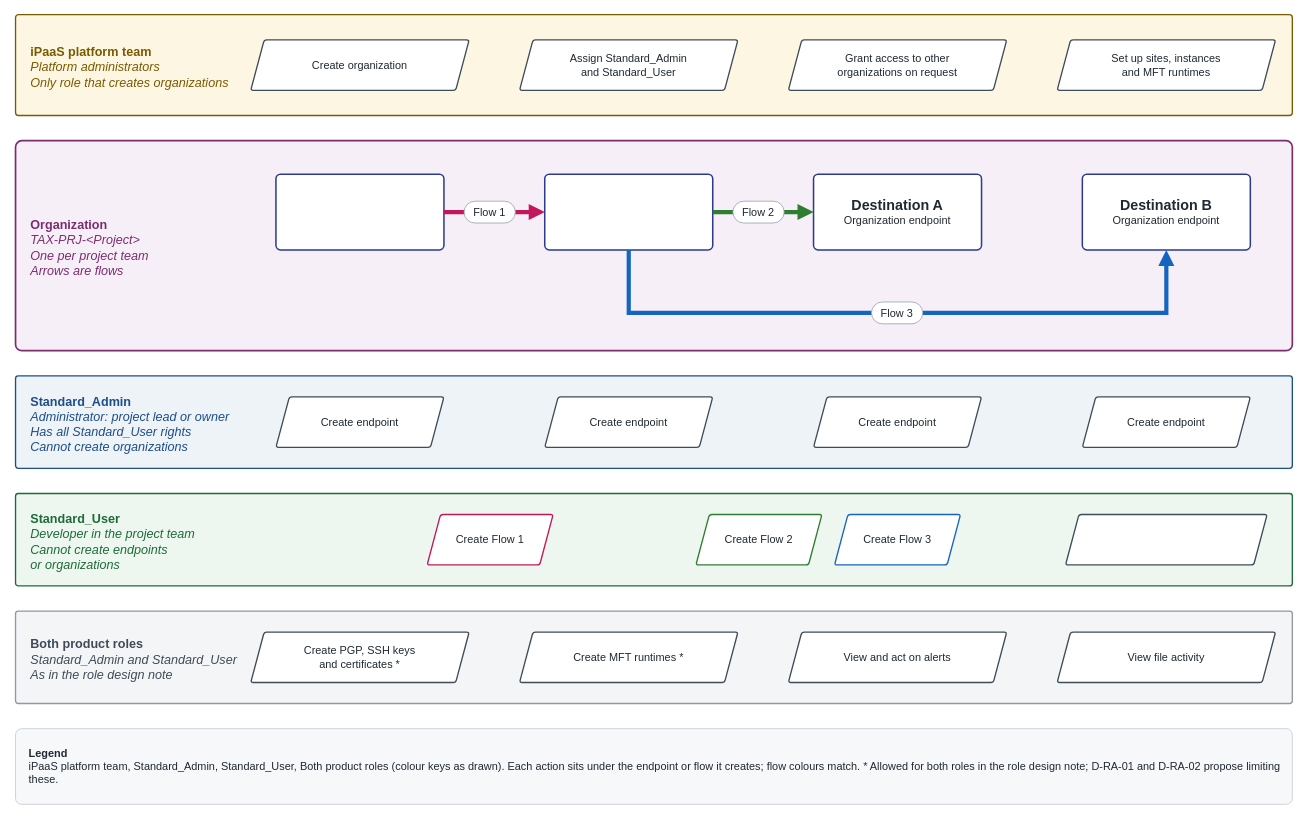
The diagram is 1307 pixels wide and 820 high, and some of its shapes have lost their labels. Each missing label, with the centre of its shape:
"Reuse the project's endpoints in flows" belongs at (1165,539).
"S3 staging area iPaaS, internal Organization endpoint" belongs at (628,211).
"Source A FTP site Organization endpoint" belongs at (359,211).
